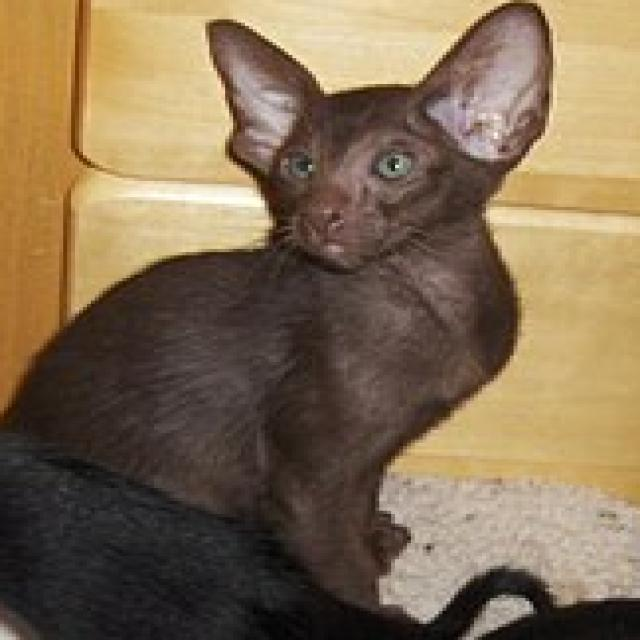Oriental: (0, 0, 565, 624)
